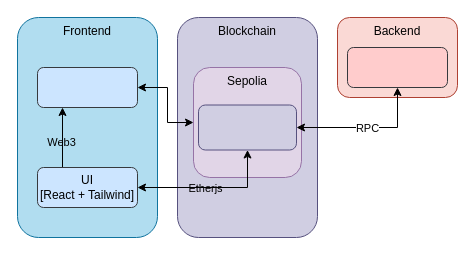
The diagram is 475 pixels wide and 255 high, and some of its shapes have lost their labels. The shapes that lost their labels are listed below. From the top down, each one's centre as x and y in pixels, then its label:
At point 87,87: "Metamask".
At point 397,67: "Next.js".
At point 247,127: "SafeDelivery.sol [Solidity Smartcontract]".
